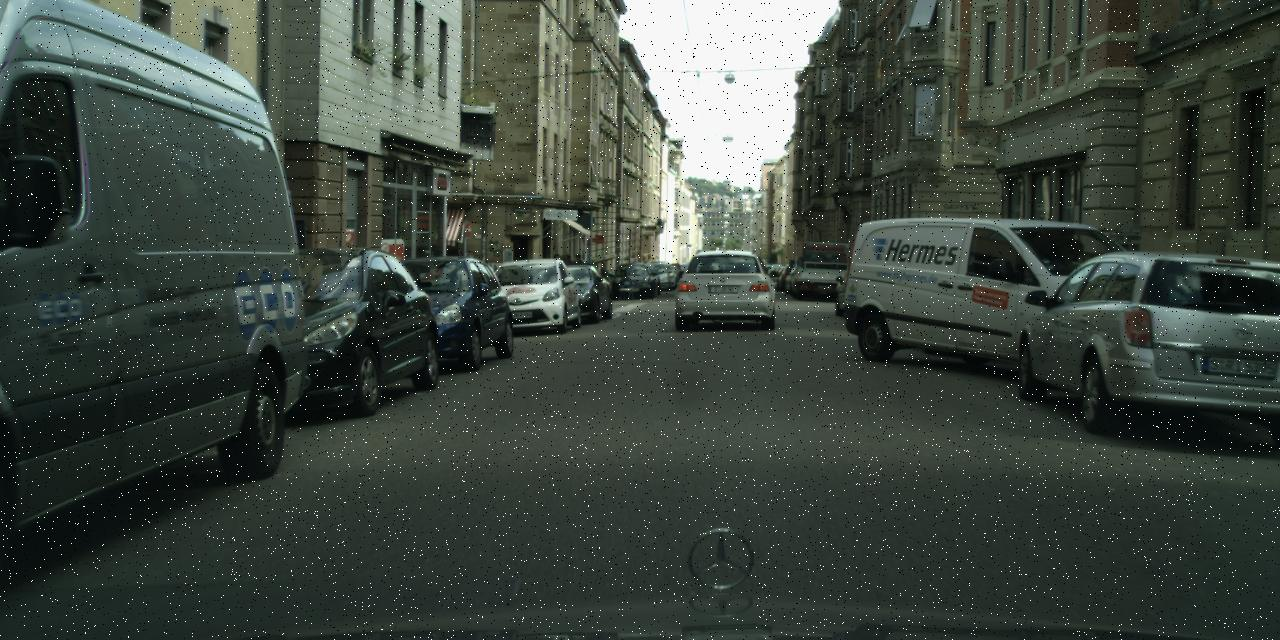ped: (572, 253, 586, 289), (598, 260, 610, 290), (553, 254, 573, 263)
